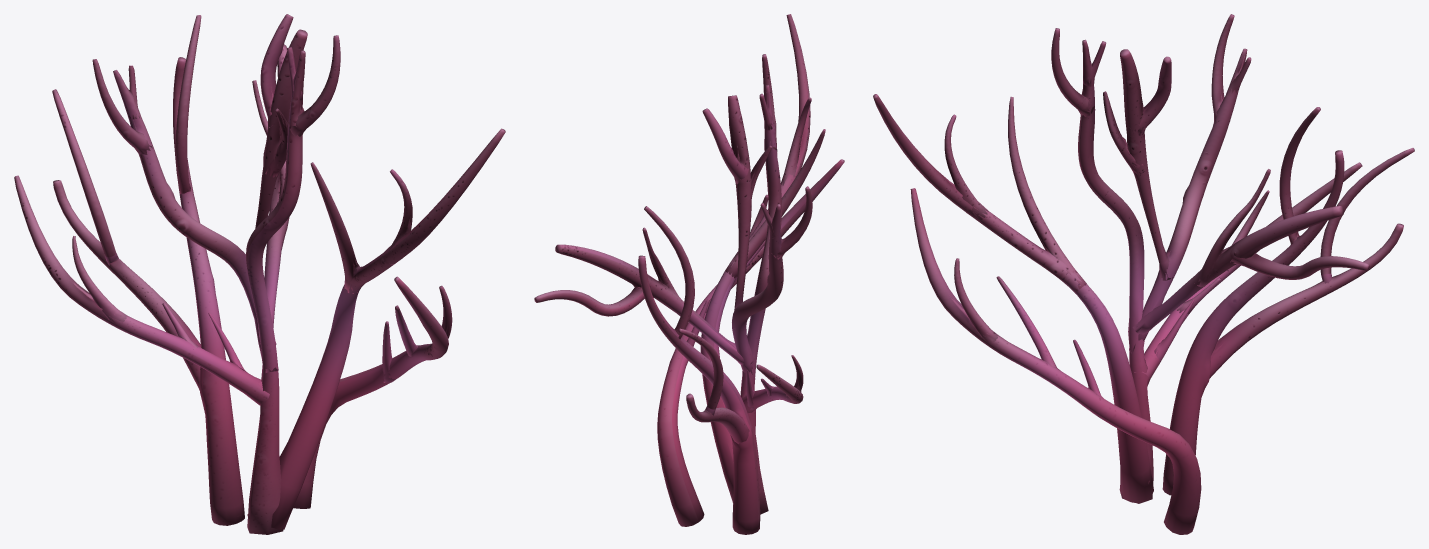
The model's file is Plants_7.fbx.
3 views of the same model, side by side, from view 1: azimuth 30°, elevation 25°; view 2: azimuth 150°, elevation 25°; view 3: azimuth 270°, elevation 25° (orthographic). The views are drawn at different scales.
Parts seen in each view (by area): view 1: low poly plants 3.003; view 2: low poly plants 3.003; view 3: low poly plants 3.003.
Part boxes in pixels (x1,y1,x2,y2): low poly plants 3.003: [14, 14, 505, 534]; low poly plants 3.003: [534, 14, 844, 534]; low poly plants 3.003: [873, 14, 1414, 534].
Bounding box in the file's own units: 1.88 × 3.41 × 3.41.
1 material, 1 textured.
